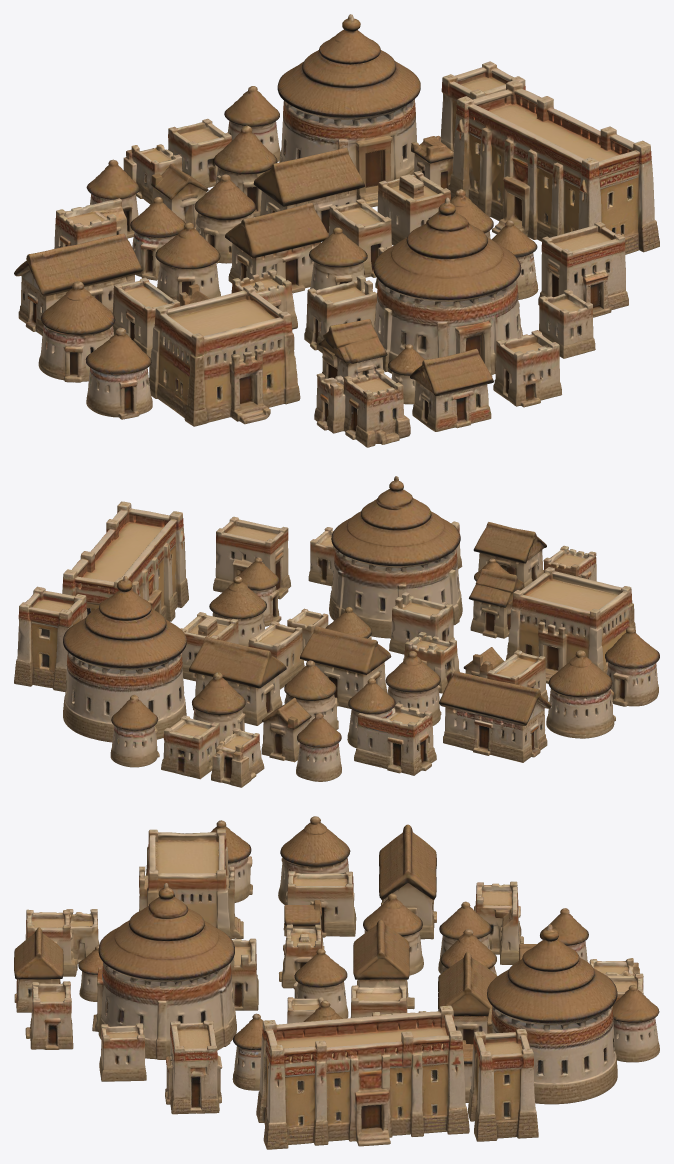
The model's file is Medieval Town (East African).fbx.
3 views of the same model, one above another, from view 1: azimuth 30°, elevation 25°; view 2: azimuth 150°, elevation 25°; view 3: azimuth 270°, elevation 25° (orthographic). The views are drawn at different scales.
Parts seen in each view (by area): view 1: tripo_node_12b861ce; view 2: tripo_node_12b861ce; view 3: tripo_node_12b861ce.
Boxes of the visible parts, x1=… form: tripo_node_12b861ce: x1=14, y1=14, x2=659, y2=447; tripo_node_12b861ce: x1=14, y1=476, x2=659, y2=787; tripo_node_12b861ce: x1=14, y1=816, x2=659, y2=1149.
Bounding box in the file's own units: 1 × 0.2648 × 0.9995.
